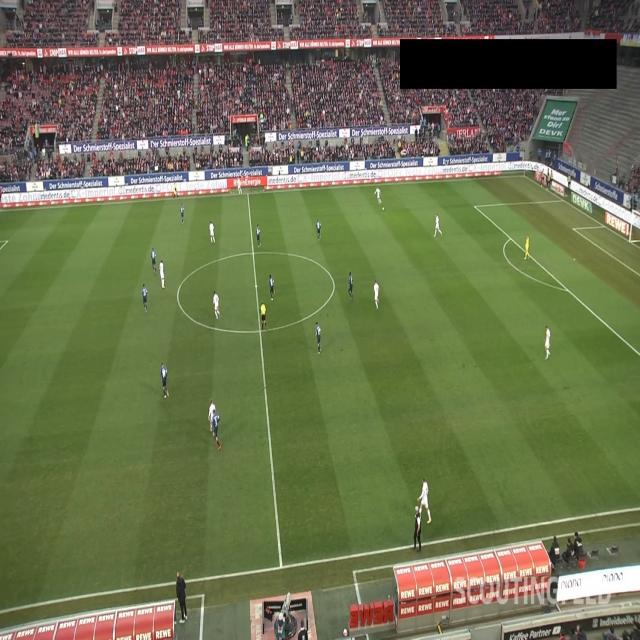ball: (382, 206, 384, 212)
